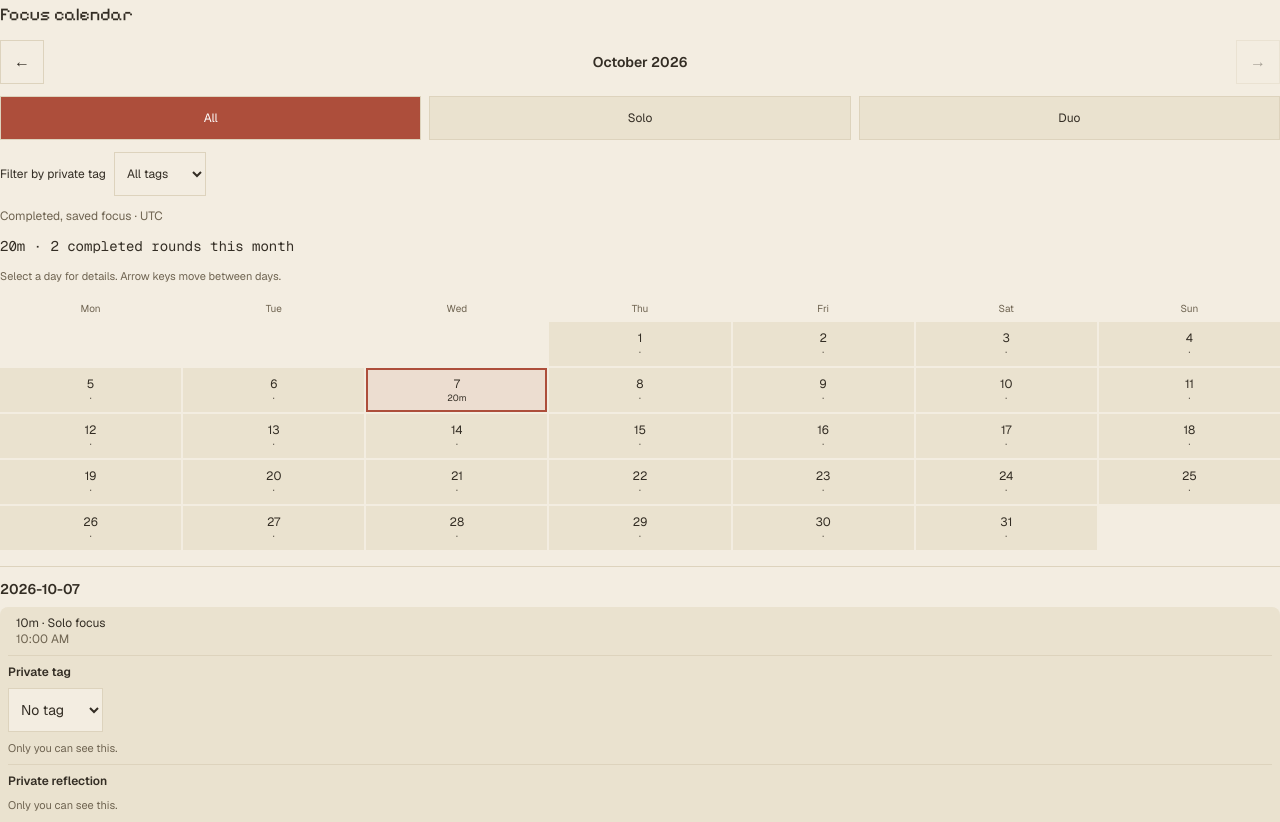
Test case: moves focus to the selected day and says so when a save removes its round from the filter
The image size is (1280, 822).
Select "Untagged" in the dropdown labelled "Filter by private tag" at (160,174), box top-left (114, 152), bottom-right (206, 196)
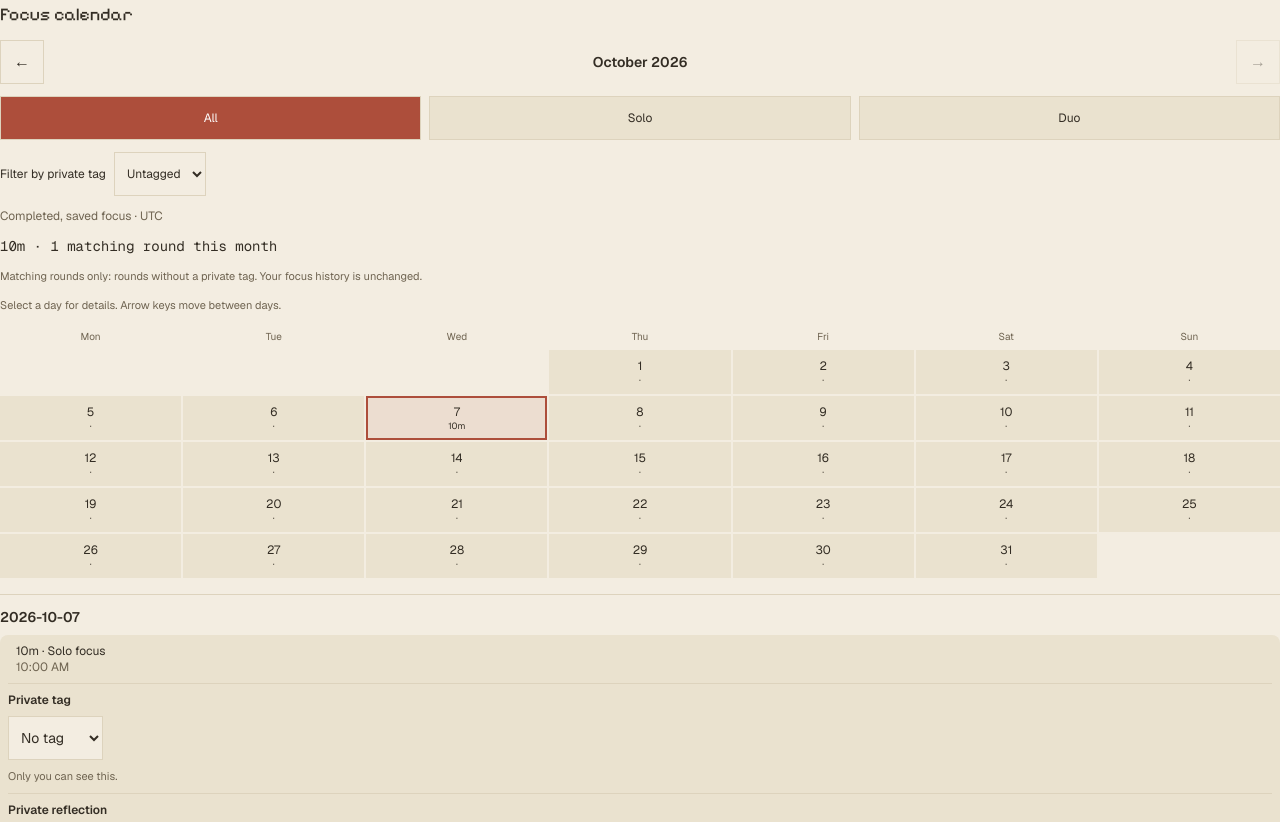
Select "Work" in the dropdown labelled "Private tag" at (56,738), box top-left (8, 716), bottom-right (103, 760)
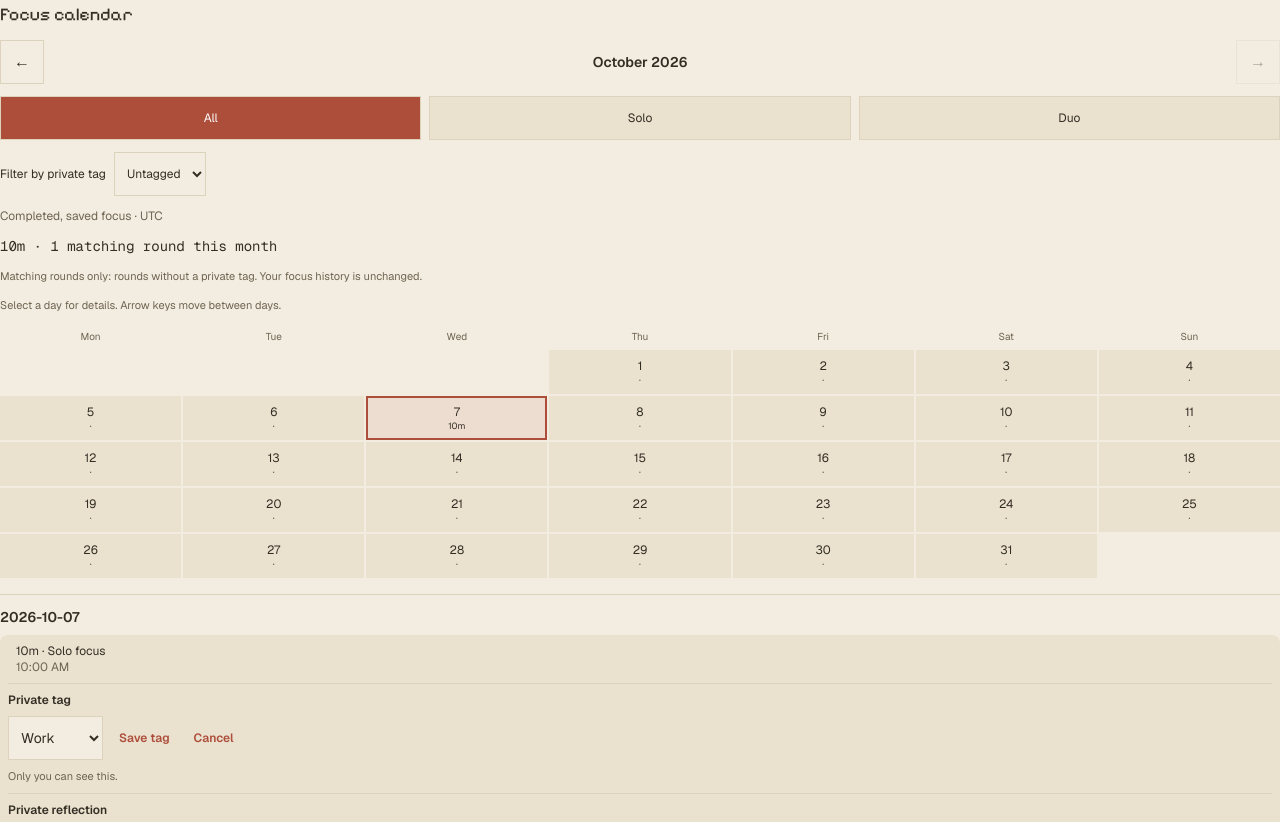
Click the button "Save tag" at (144,738), box top-left (111, 716), bottom-right (178, 760)
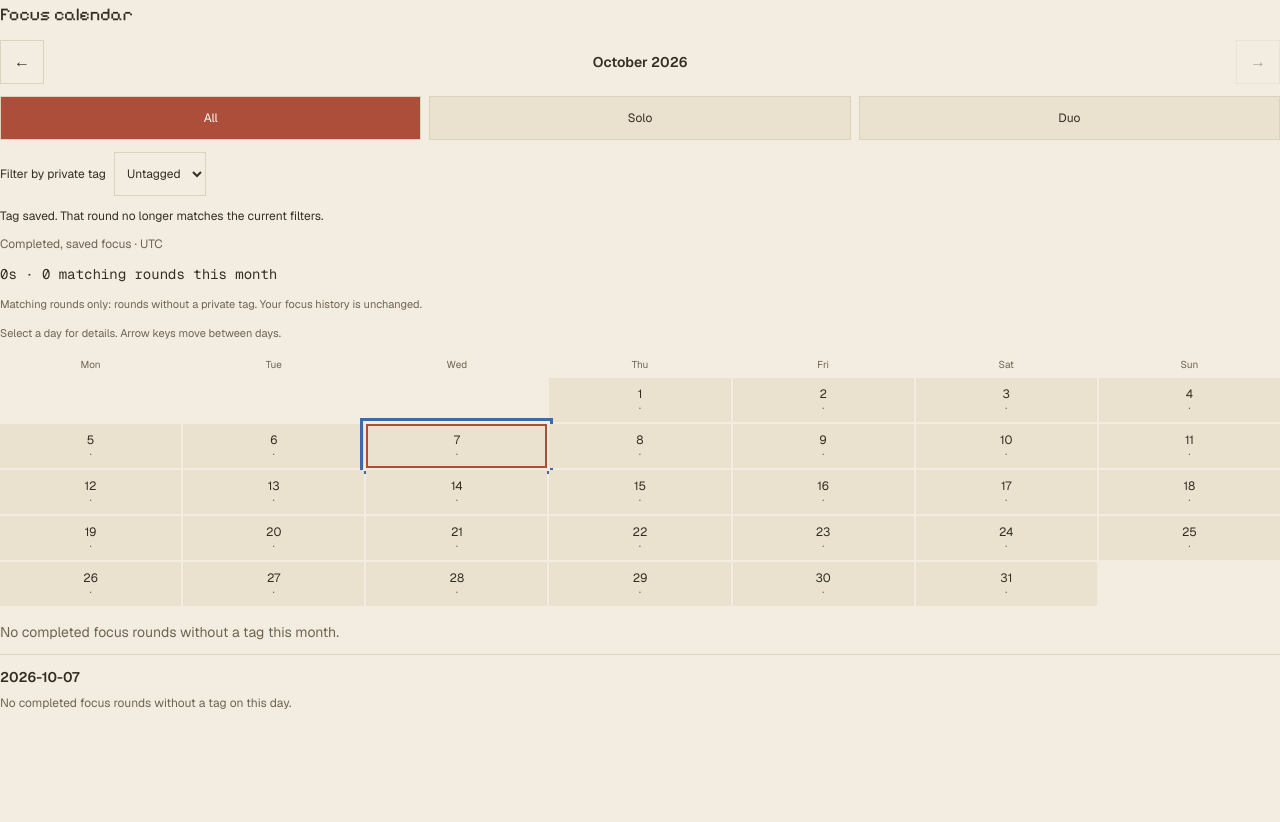
Now the text "Tag saved. That round no longer matches the current filters." is shown, box top-left (0, 208), bottom-right (323, 224)
